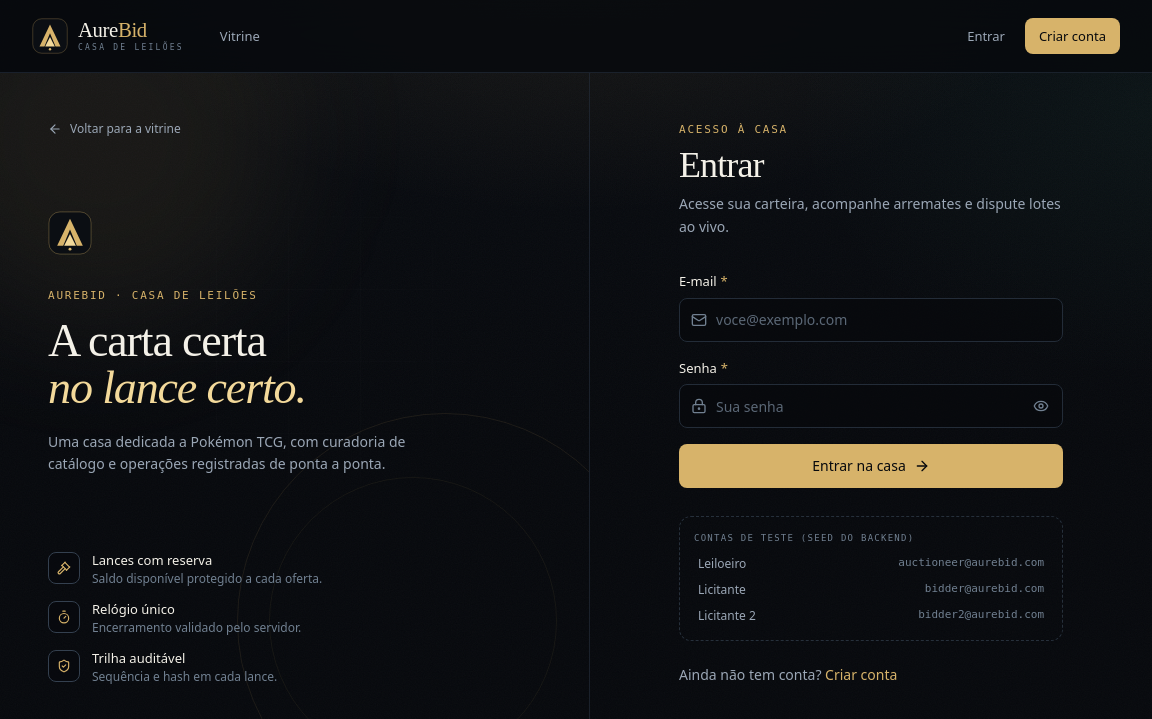
Test: validação de formulários › realiza login e redireciona para a vitrine
This screenshot has width=1152, height=719.
Type "bidder@aurebid.com" into the field labelled "E-mail *". click: (871, 320)
box: x1=679 y1=298 x2=1063 y2=342
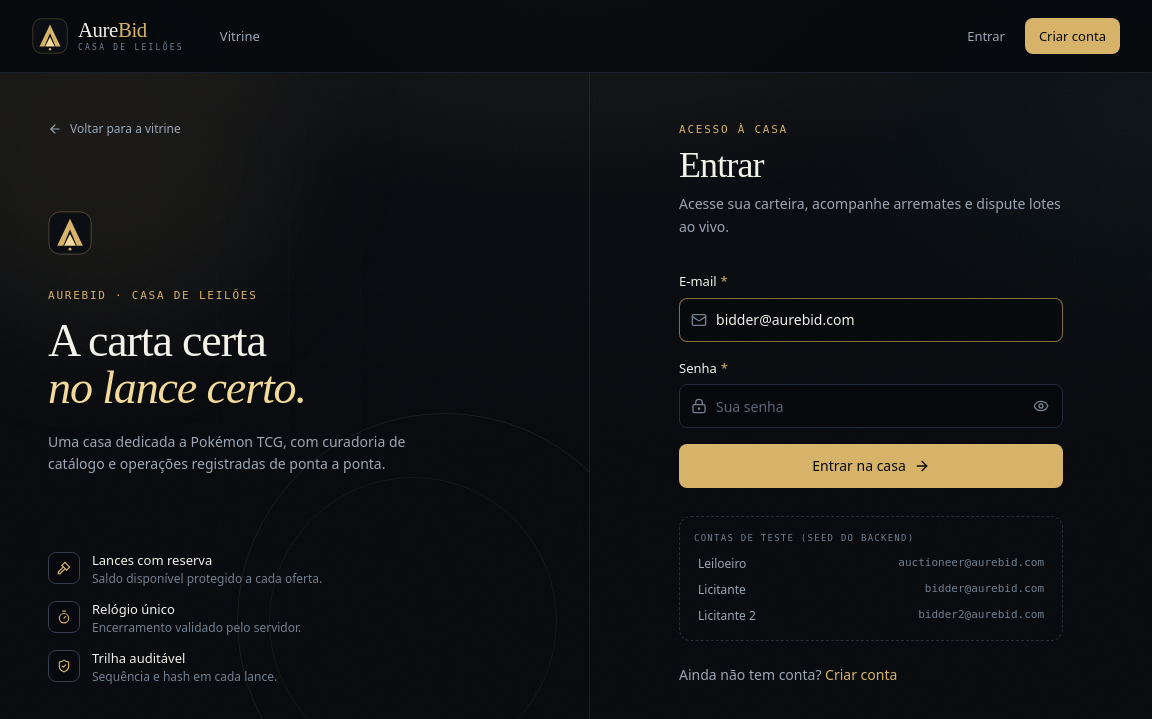
Type "bidder123" into the password field labelled "Senha *". click: (871, 406)
box: x1=679 y1=384 x2=1063 y2=428
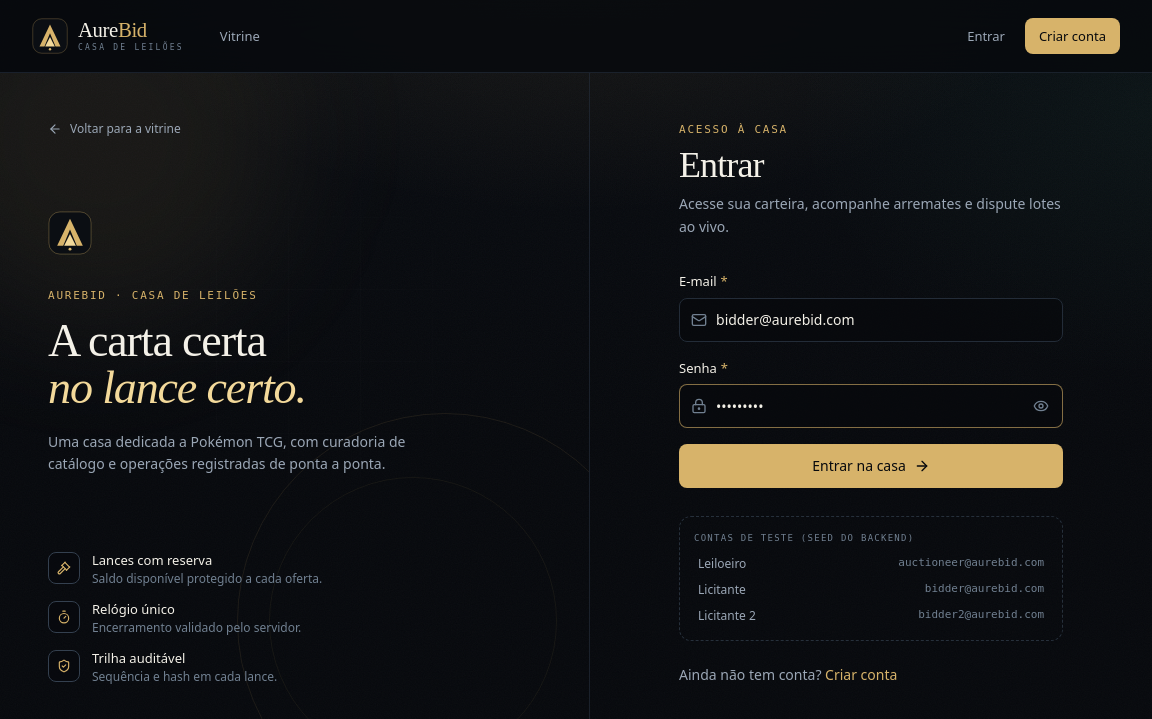
Click the button "Entrar na casa". click: (871, 466)
box: x1=679 y1=444 x2=1063 y2=488
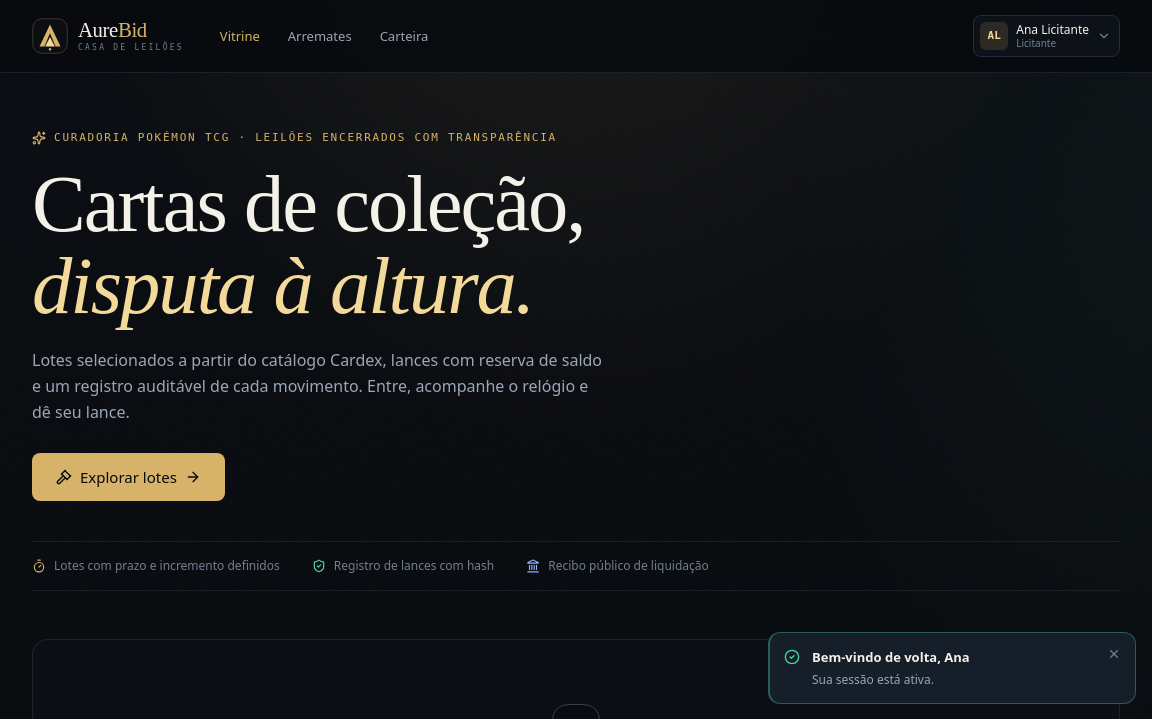
Check: the link with aria-label "AureBid — página inicial" is shown, box x1=32 y1=18 x2=184 y2=54
Check: the link "Entrar" is gone
